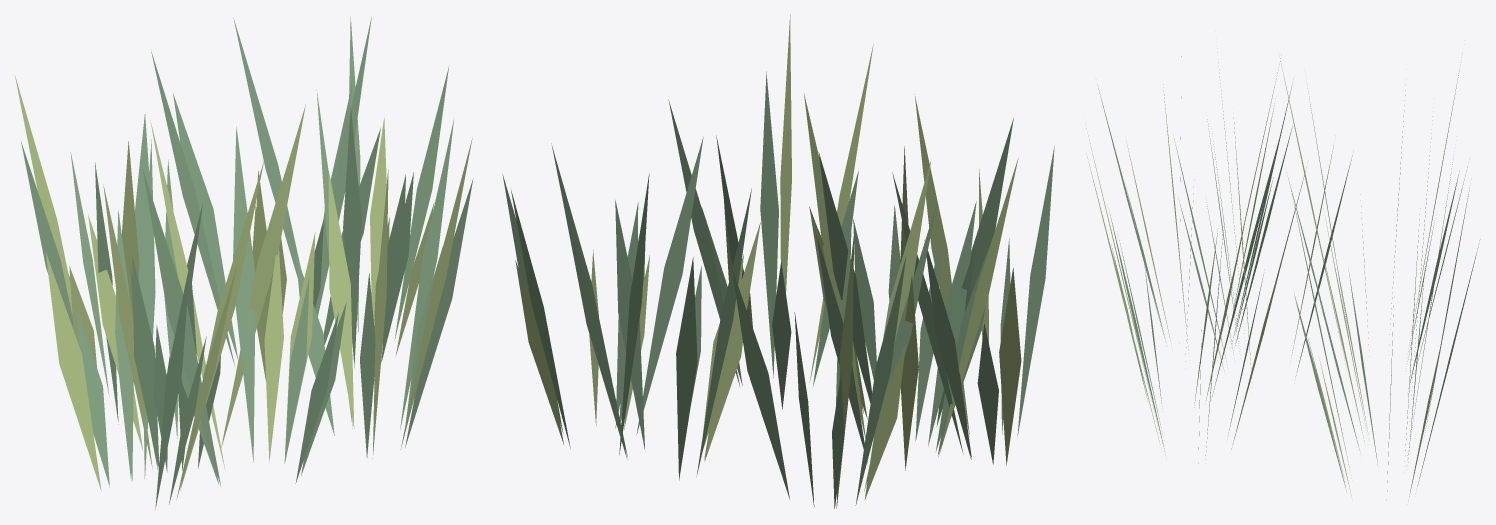
The model's file is grass_tall.glb.
3 renders of one model, left to right at view 1: azimuth 30°, elevation 25°; view 2: azimuth 150°, elevation 25°; view 3: azimuth 270°, elevation 25°, orthographic. The views are drawn at different scales.
Parts seen in each view (by area): view 1: grass_tall; view 2: grass_tall; view 3: grass_tall.
Part boxes in pixels (x1=…): grass_tall: x1=14, y1=16, x2=473, y2=509; grass_tall: x1=502, y1=14, x2=1054, y2=508; grass_tall: x1=1086, y1=52, x2=1480, y2=500.
Bounding box in the file's own units: 1.49 × 1.04 × 1.14.
